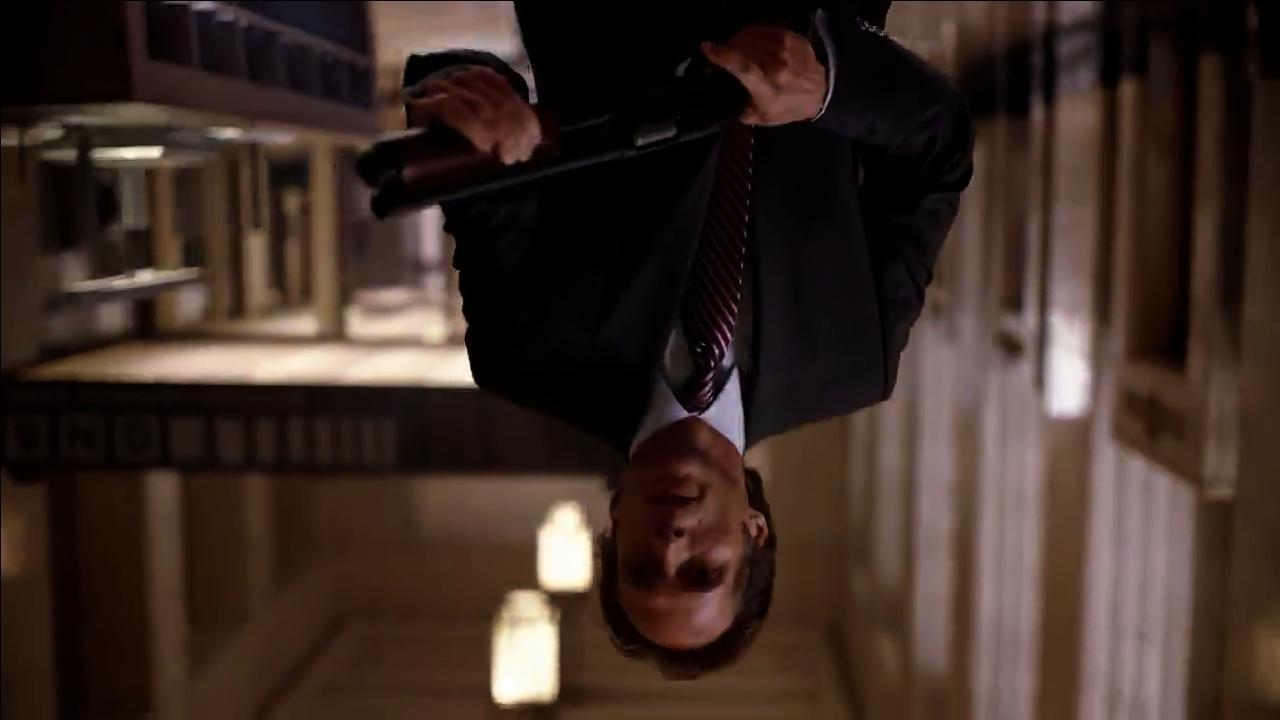gun: (350, 52, 748, 222)
